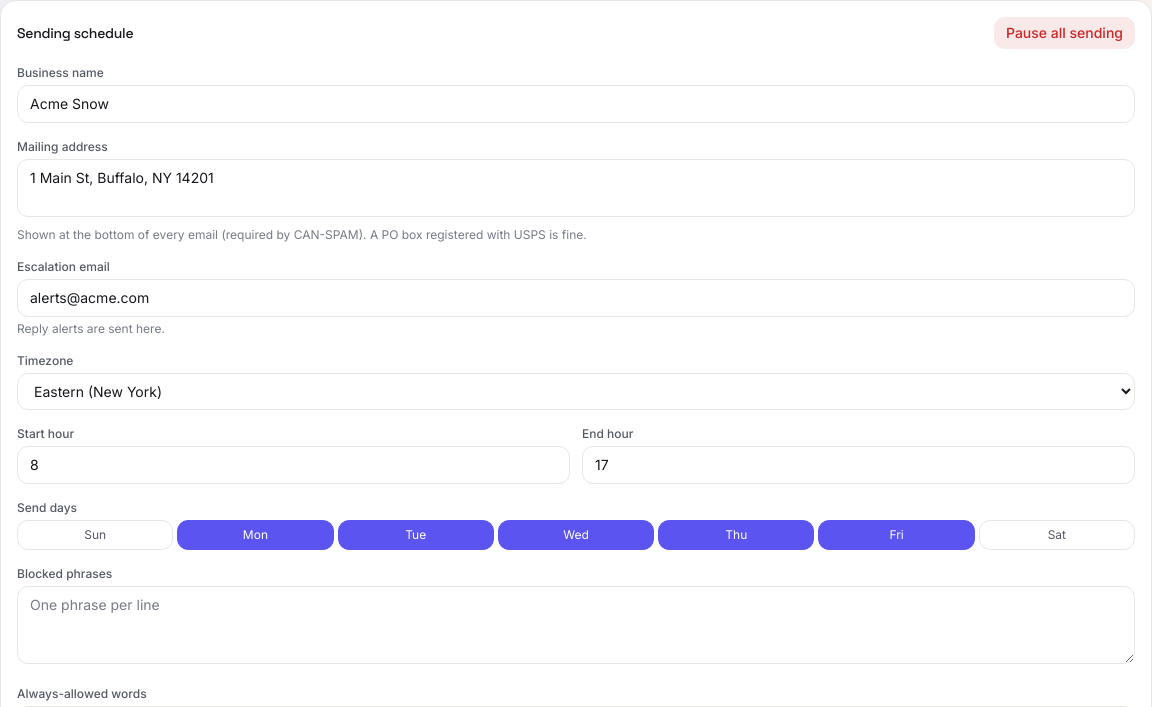
SendingSettingsForm › clicking "Pause all sending" PATCHes sendingPaused and shows "Resume sending"
Click the button "Pause all sending" at (1064, 33), box [994,17,1135,49]
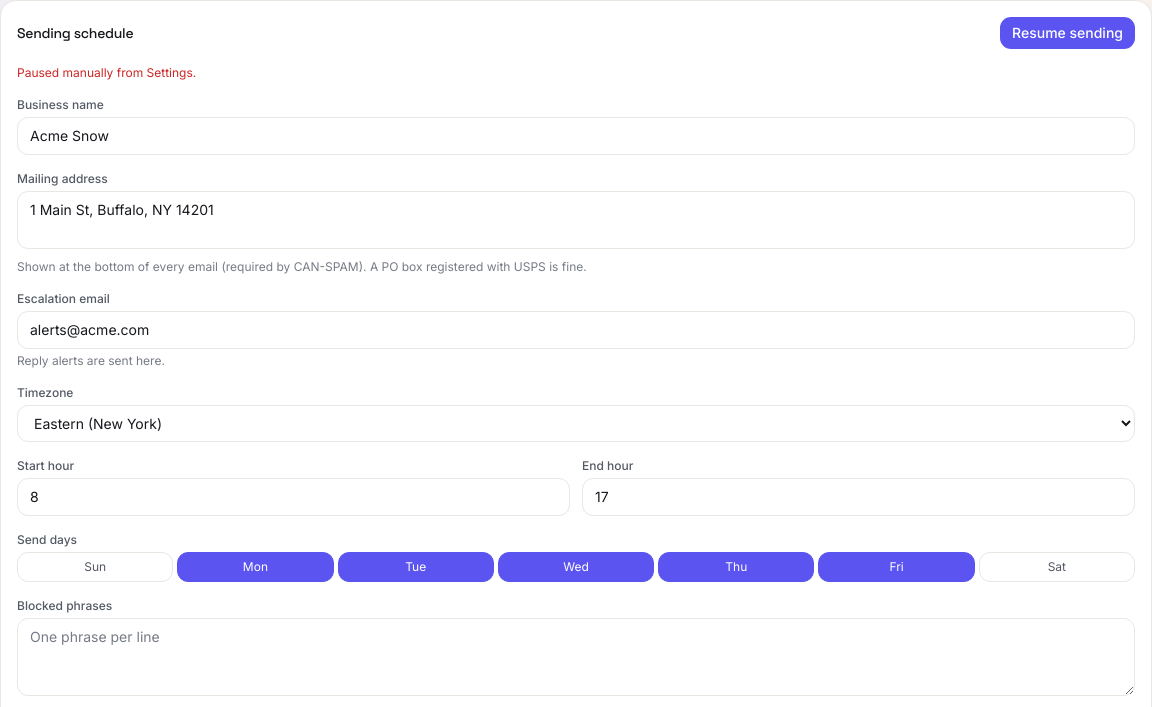
Expected: the button "Resume sending" is shown, [1000,17,1135,49]
